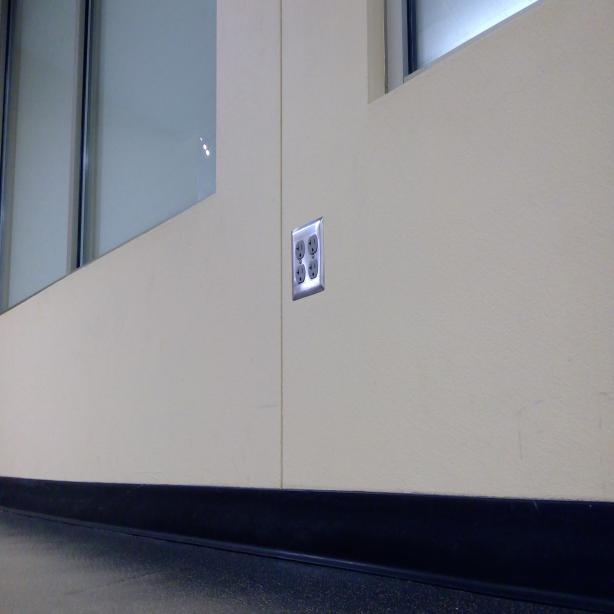typeb: (308, 260, 318, 284), (294, 264, 306, 284), (307, 234, 318, 254), (296, 241, 305, 259)
